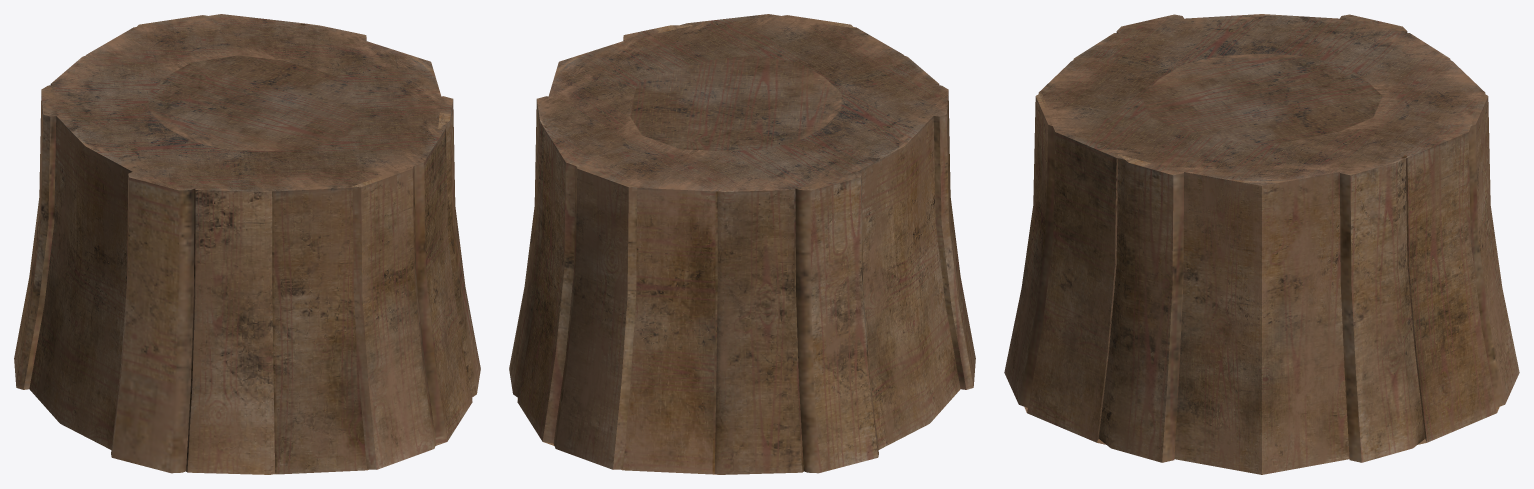
Rendered from tree_stump.fbx.
3 renders of one model, left to right at view 1: azimuth 30°, elevation 25°; view 2: azimuth 150°, elevation 25°; view 3: azimuth 270°, elevation 25°, orthographic.
Parts seen in each view (by area): view 1: tree_stump; view 2: tree_stump; view 3: tree_stump.
Part boxes in pixels (left/top/right/bottom): tree_stump: left=14, top=14, right=480, bottom=474; tree_stump: left=509, top=14, right=975, bottom=474; tree_stump: left=1004, top=14, right=1519, bottom=474.
Size of the model in its own units: 384 by 252 by 425.
